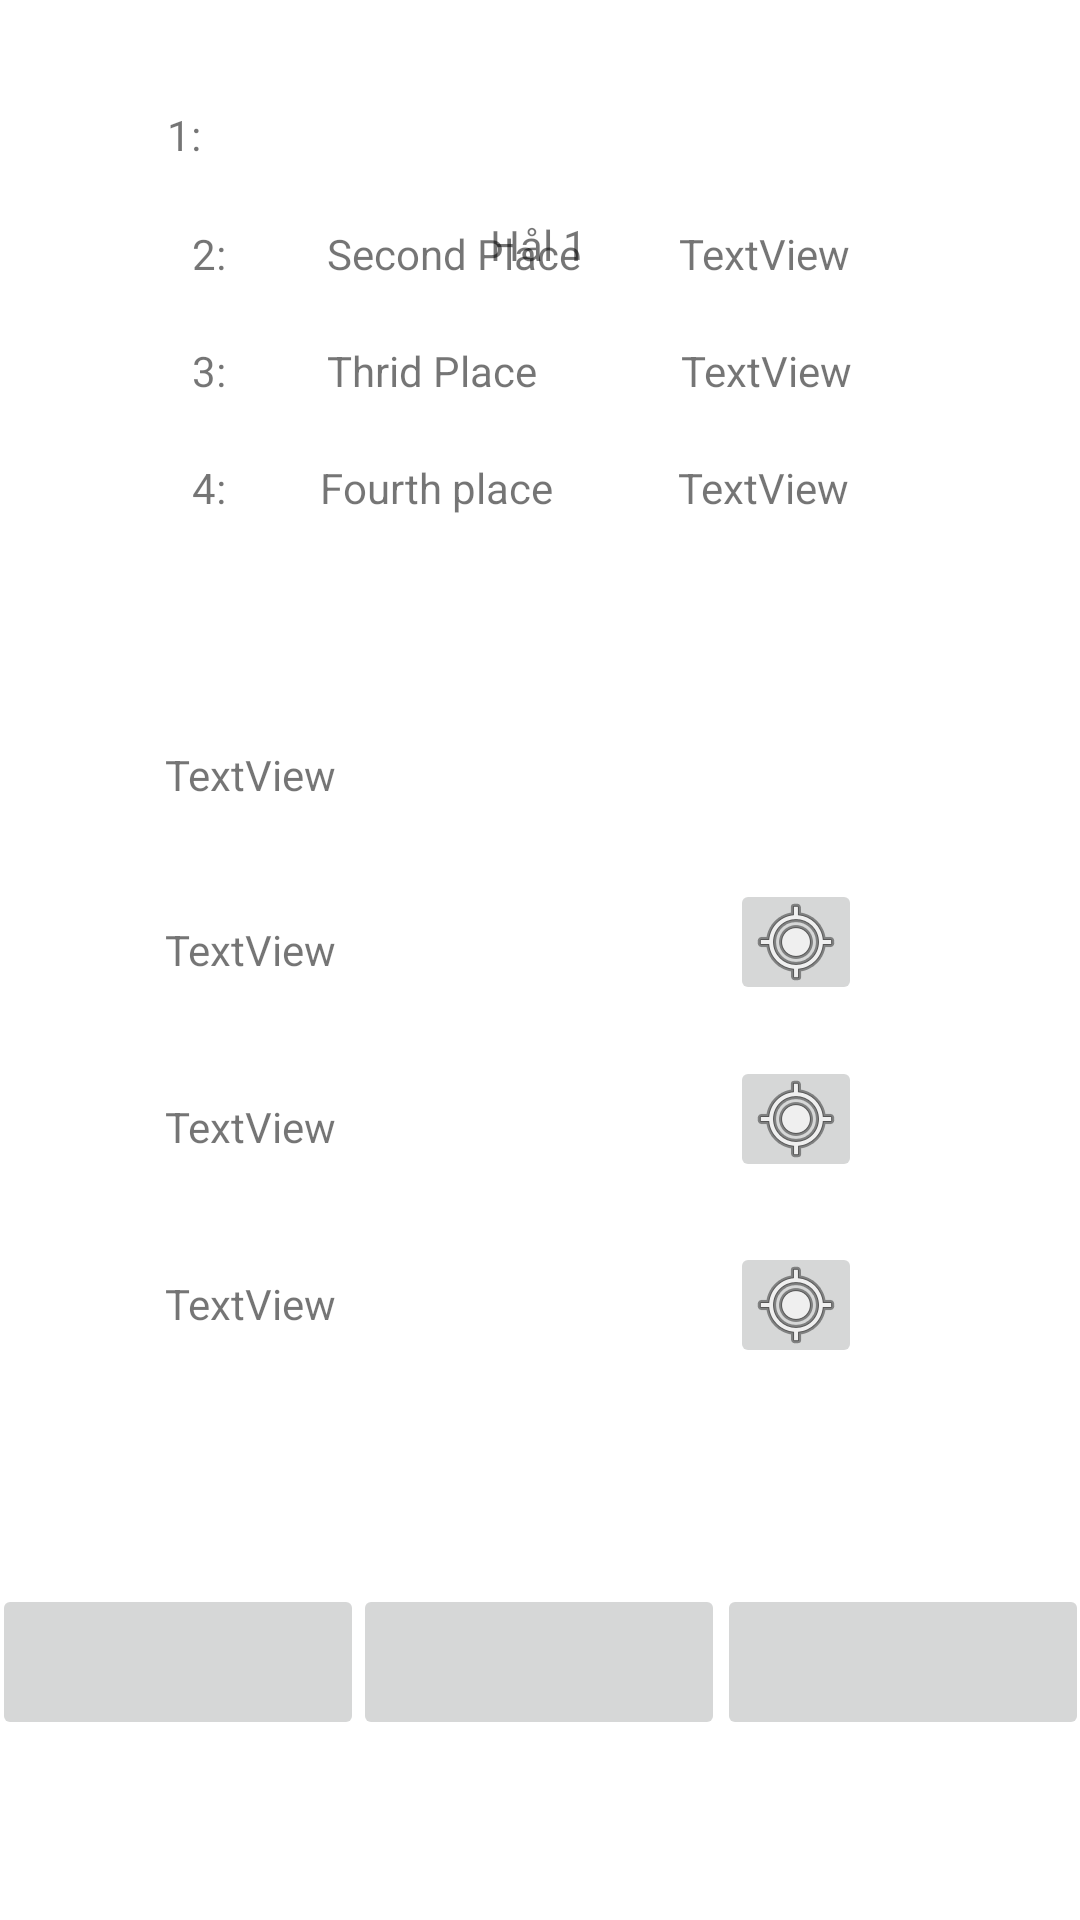

Locate icon controls on the screen. Image size 1080*1920, boxes as Rect(x1, y1, x2, y2).
mylocation: Rect(742, 897, 850, 987), Rect(742, 1074, 850, 1164), Rect(742, 1260, 850, 1350)
